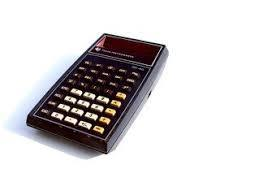Calculator: (26, 24, 170, 159)
